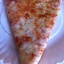pizza: (3, 1, 62, 64)
